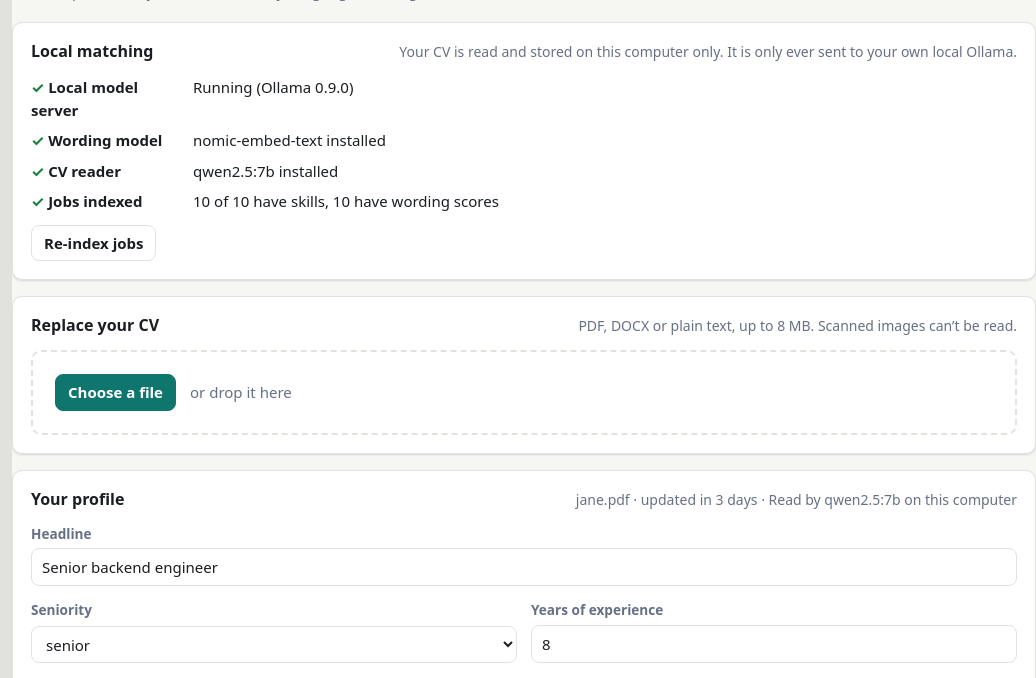
Test: Profile page: editing › keeps Save disabled until something changes
Step 1. Replace the text in the field showing "Senior backend engineer" with "Staff engineer" → (524, 567), box [31, 548, 1017, 586]
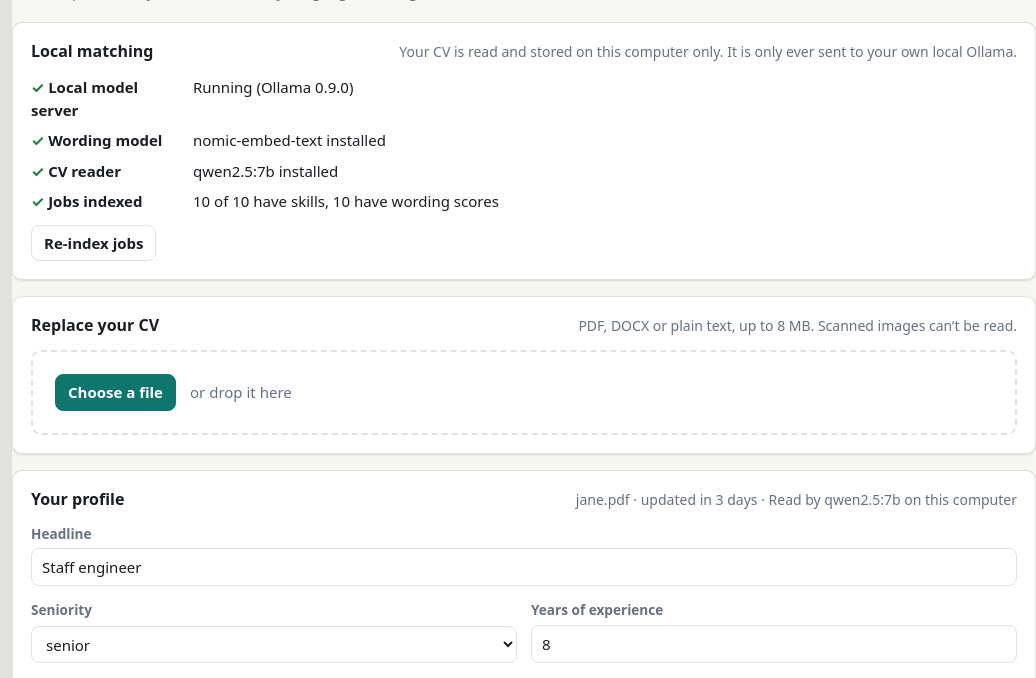
Step 2. Replace the text in the field showing "Staff engineer" with "Senior backend engineer" → (524, 567), box [31, 548, 1017, 586]
(page scrolled)
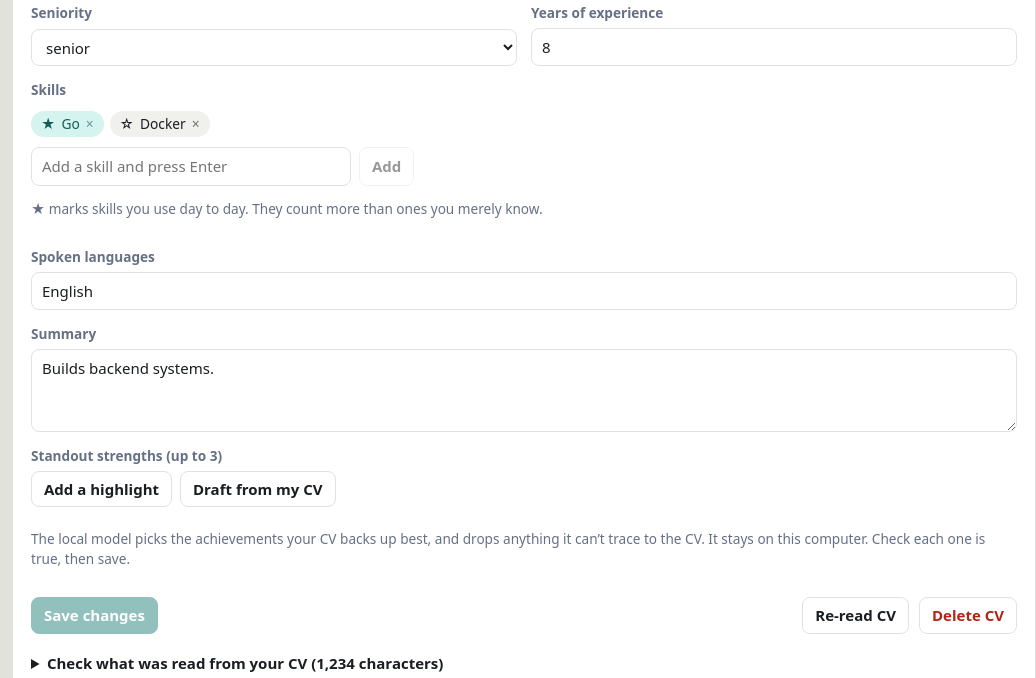
Result: the button "Save changes" is disabled at [31, 597, 158, 634]
